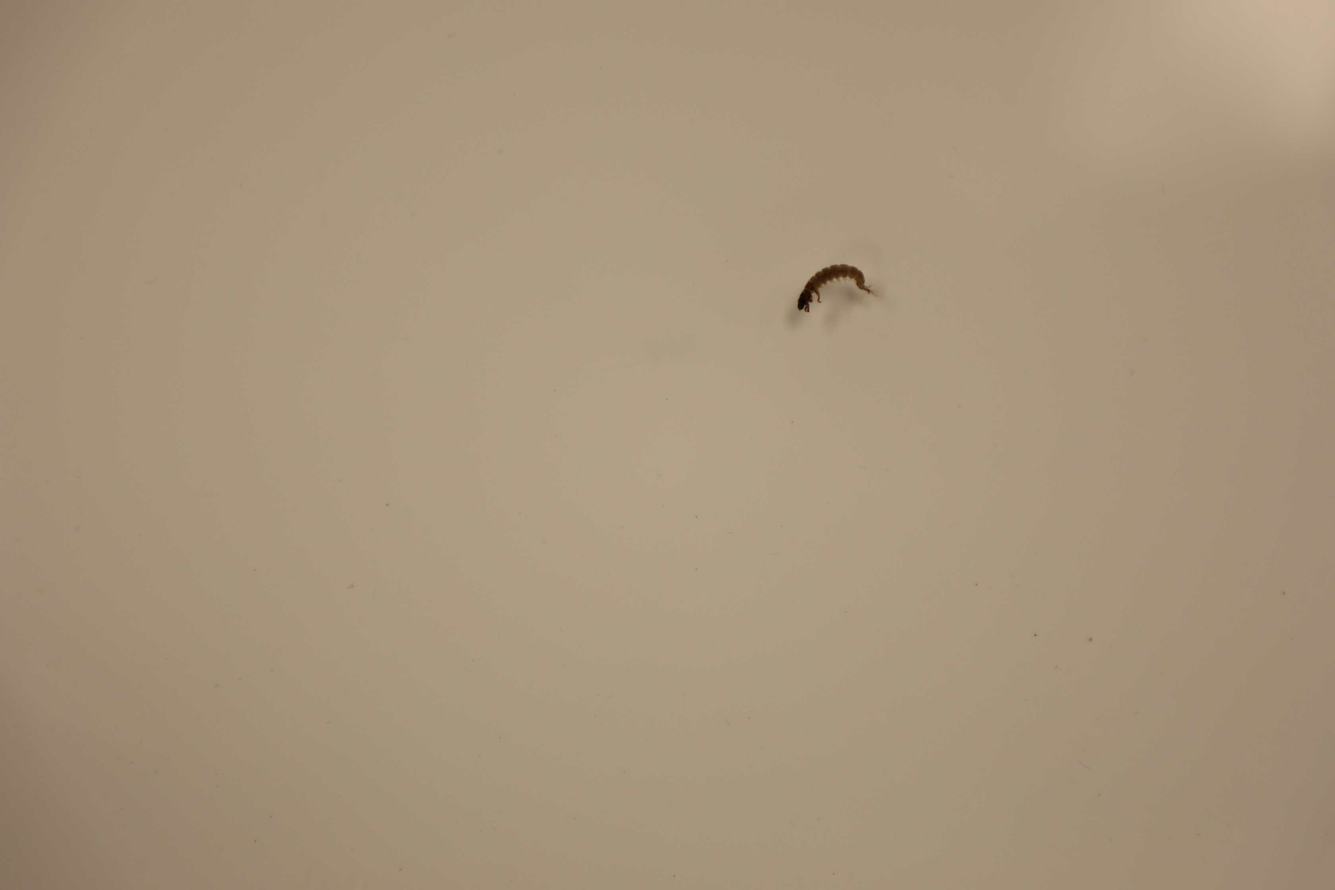Cadisfly: (791, 261, 878, 320)
